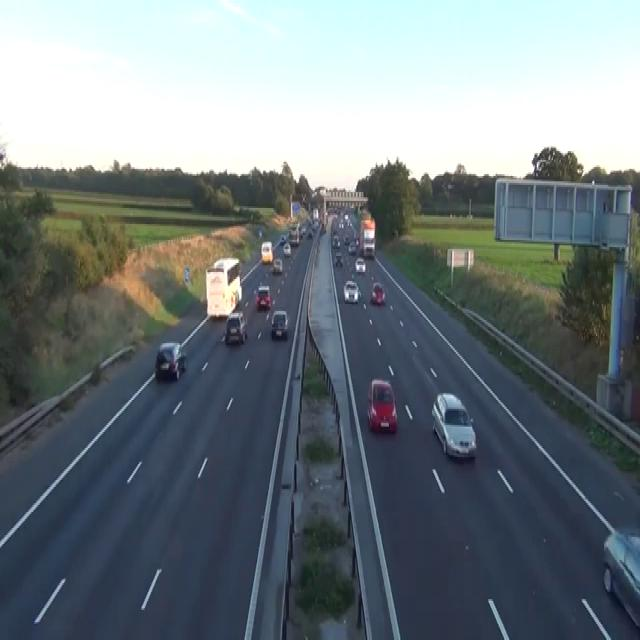Car: (602, 530, 639, 628), (431, 391, 477, 459), (366, 378, 397, 434), (155, 342, 186, 381), (224, 311, 247, 345), (271, 309, 288, 338), (343, 279, 360, 304), (255, 284, 270, 310), (371, 281, 385, 304), (355, 256, 366, 274), (272, 258, 282, 274), (363, 244, 374, 258), (334, 250, 343, 266), (347, 240, 356, 254), (283, 242, 291, 256), (331, 235, 340, 247), (280, 233, 286, 245), (299, 224, 305, 236), (321, 222, 326, 233), (343, 234, 349, 243), (306, 230, 312, 238), (355, 237, 359, 246), (258, 228, 262, 236)
Truck: (205, 256, 242, 318), (359, 218, 375, 258), (260, 240, 273, 263), (288, 224, 300, 245)
